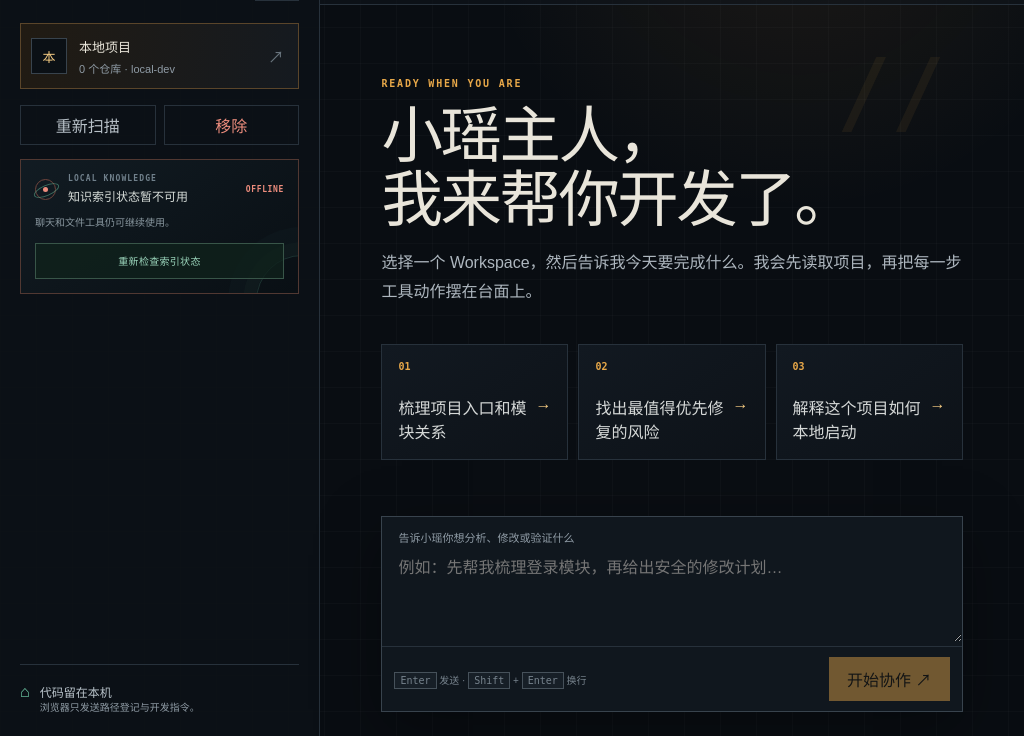
Test: 小瑶开发助手工作台 › renders a normal resume SSE outcome for applied_tests_failed without generic approval overwrite
(page scrolled)
Expected: the button "本 本地项目 0 个仓库 · local-dev ↗" is shown, 20,23 -> 299,89
Type "正常 outcome" into the text box labelled "告诉小瑶你想分析、修改或验证什么" at [672, 594], box 382,545 -> 962,642
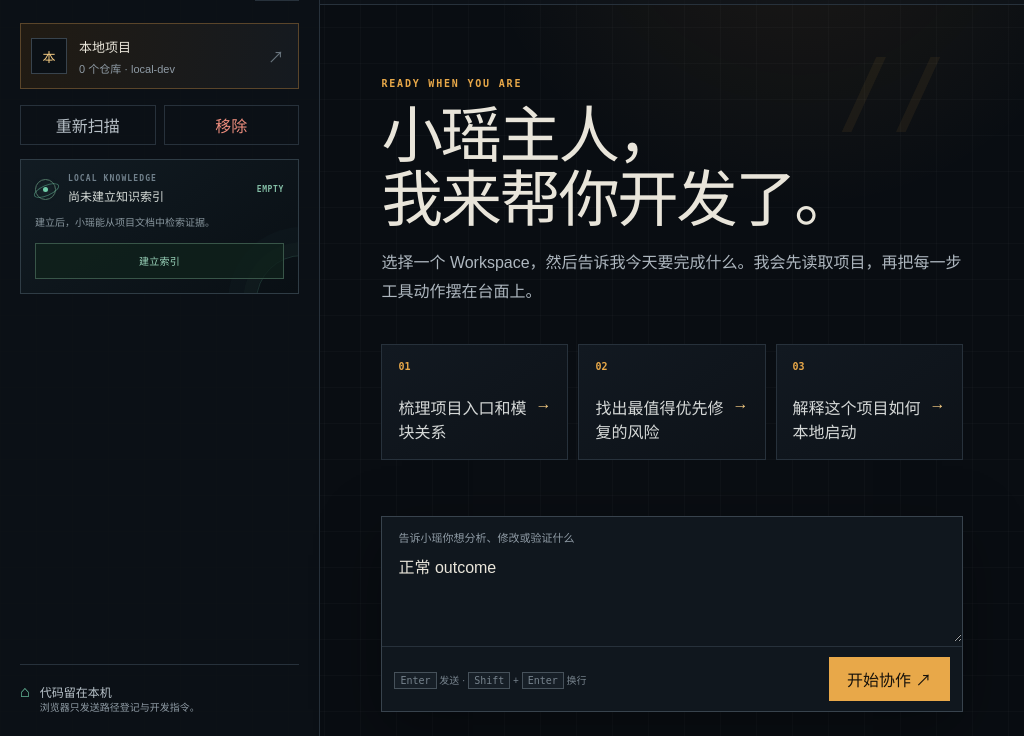
Click the button "开始协作 ↗" at [889, 679], box 829,657 -> 950,701
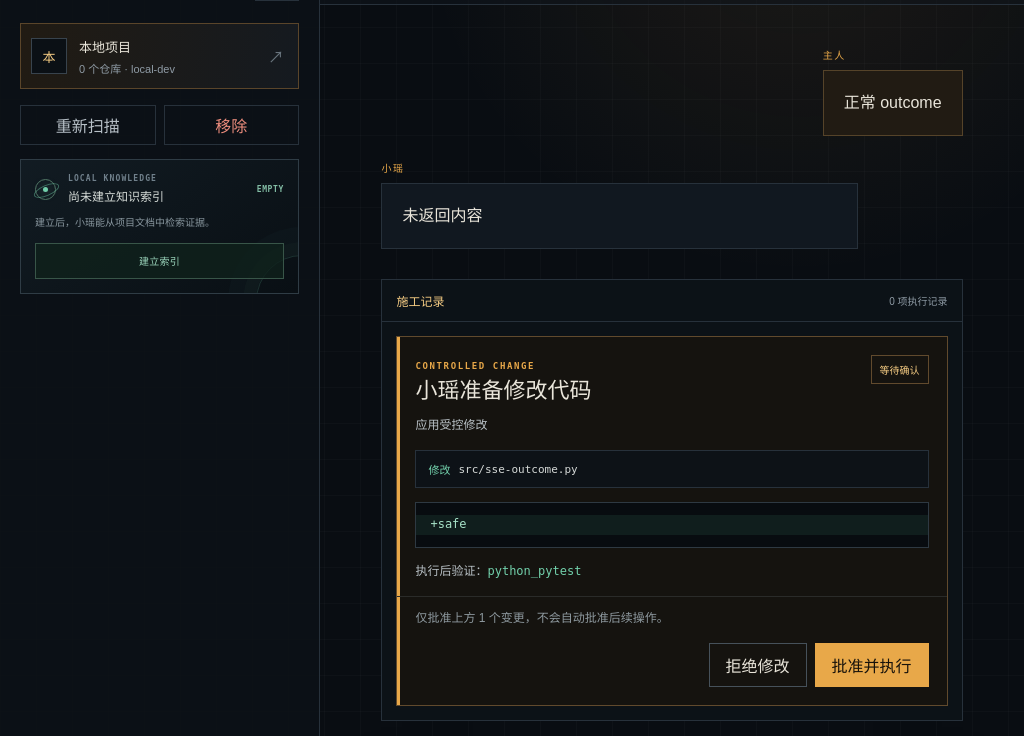
Click the button "批准并执行" at [872, 665], box 814,643 -> 928,687
(page scrolled)
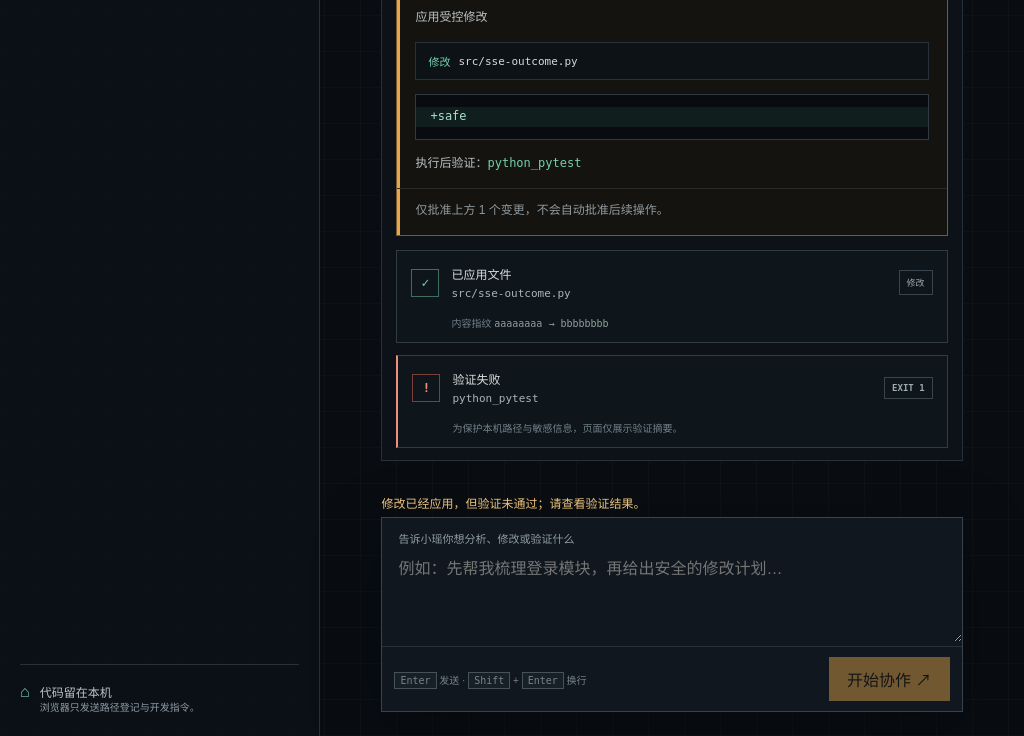
Now the text "验证失败" is shown, box 452,373 -> 500,387
